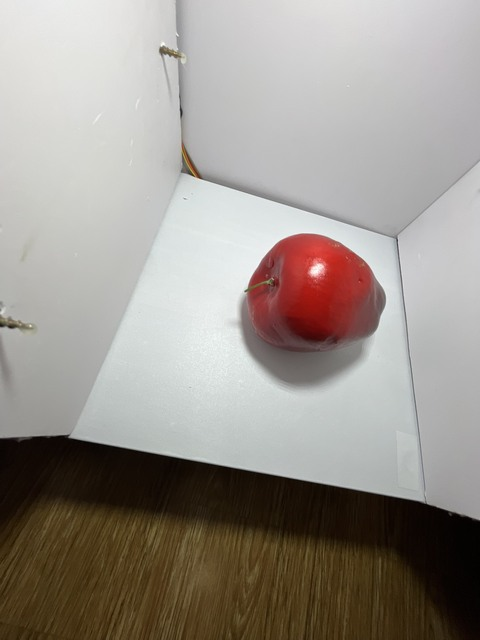Tao: (240, 227, 388, 357)
